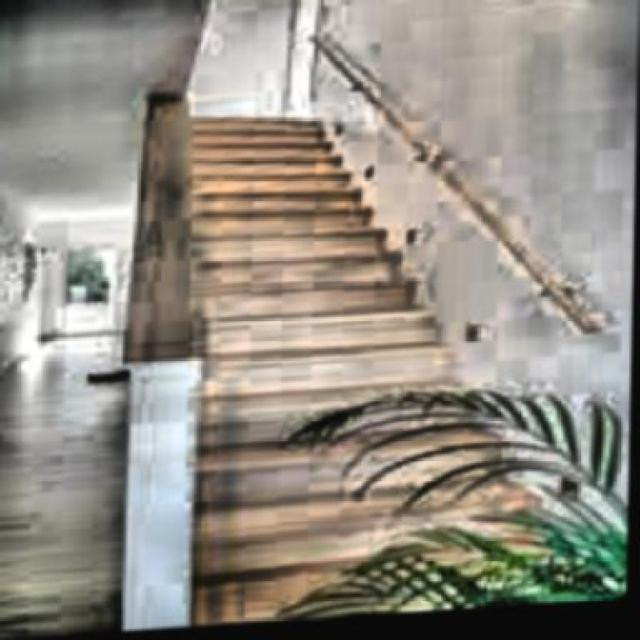stair: (60, 80, 597, 626)
